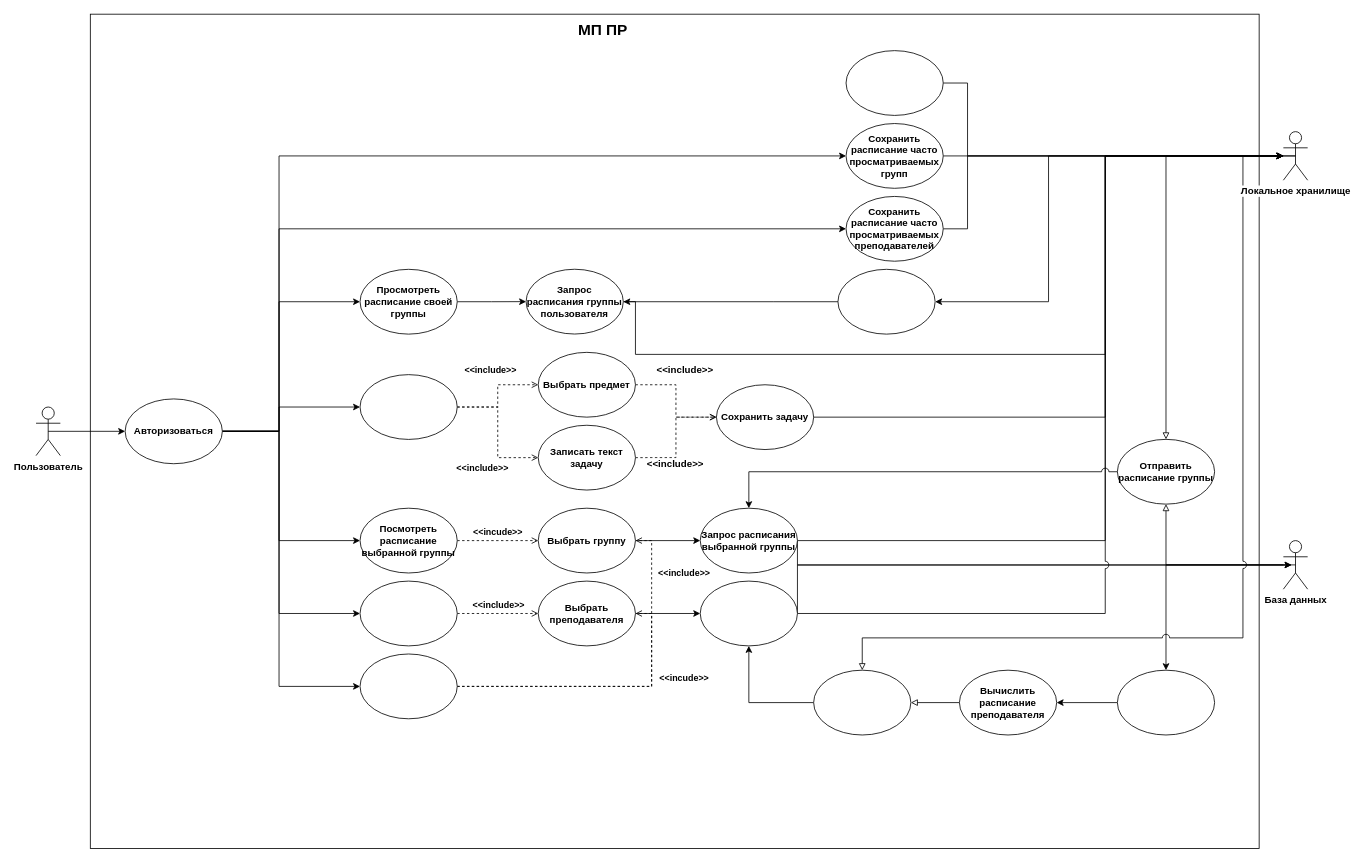
The diagram is 1364 pixels wide and 863 high, and some of its shapes have lost their labels. The shapes that lost their labels are listed below. From the top down, each one's centre as x and y in pixels, then its label:
(x=894, y=82): Сохранить расписание группы пользователя
(x=886, y=301): Отправить расписание группы пользователя
(x=408, y=406): Добавить задачу
(x=408, y=613): Просмотреть расписание выбранного преподавателя
(x=748, y=613): Запрос расписания выбранного преподавателя
(x=408, y=686): Найти окно
(x=862, y=702): Отправить расписание преподавателя
(x=1166, y=702): Отправить расписание запрошенной группы
